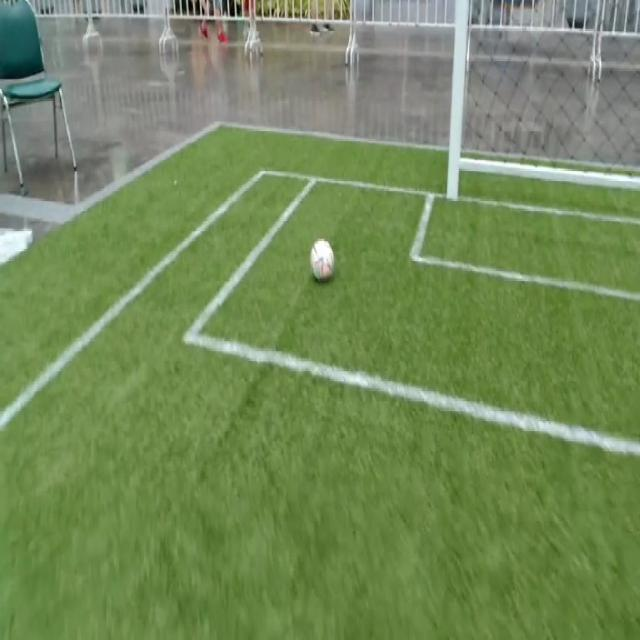ball: (310, 239, 334, 281)
goalpost: (448, 165, 459, 201)
